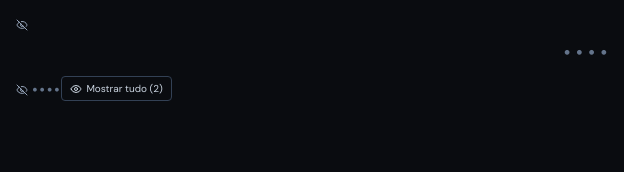
Test case: persists per user and can restore all hidden indicators
The width and height of the screenshot is (624, 172).
Earlier steps of the test are not shown.
Expected: the text "R$ 34.867" is not shown
Click the button "Mostrar tudo (2)": (117, 88) [62,76,172,101]
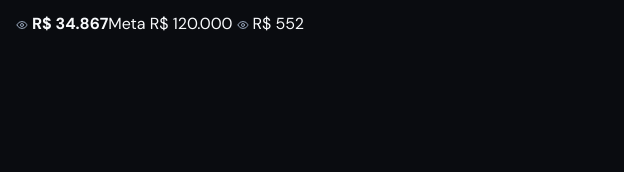
Expected: the text "R$ 34.867" is shown, [32,13,108,34]
Expected: the text "R$ 552" is shown, [253,13,304,34]
